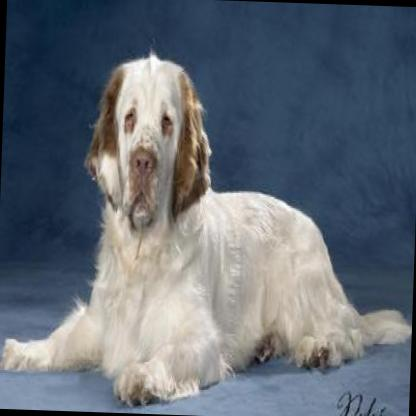clumber: (0, 42, 416, 415)
